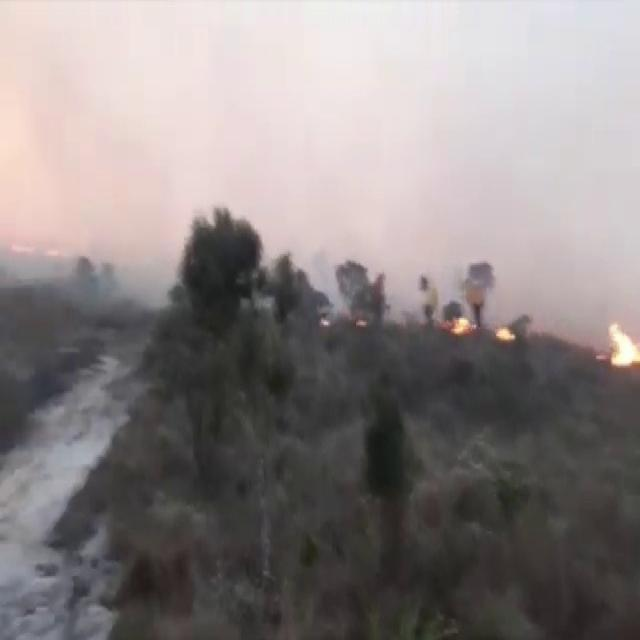Fire: (607, 316, 640, 368), (448, 313, 476, 338), (498, 318, 515, 342)
Smoke: (11, 0, 632, 343)
